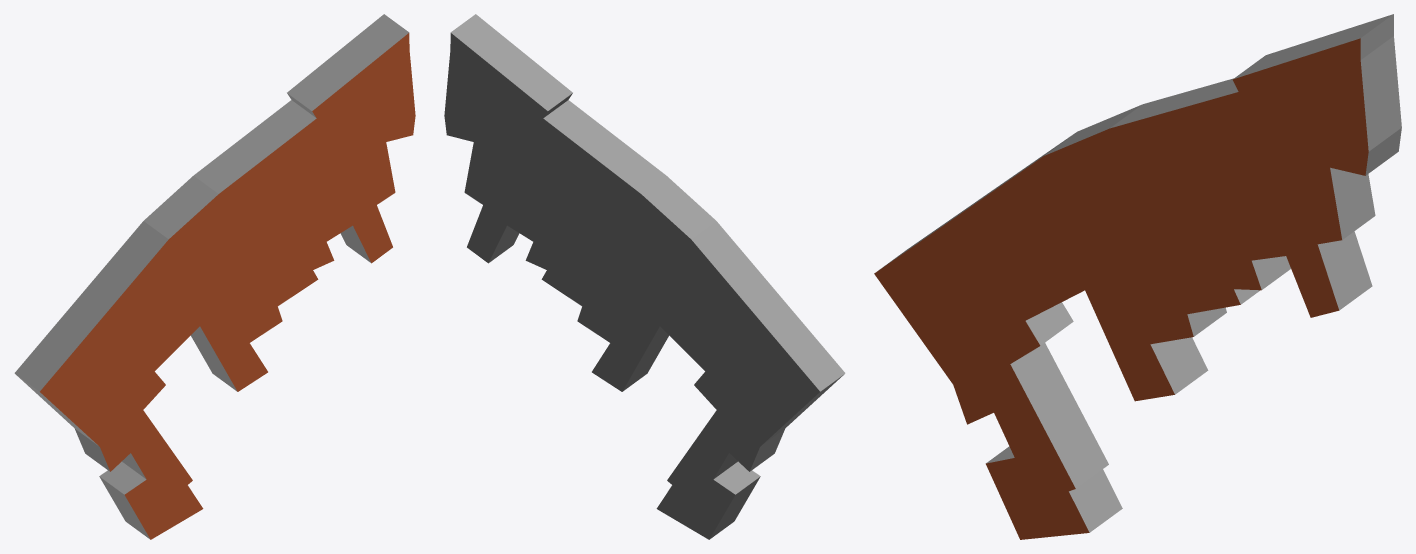
The model's file is construction_7070_assumed_A_Casa_h6m.obj.
3 renders of one model, left to right at view 1: azimuth 30°, elevation 25°; view 2: azimuth 150°, elevation 25°; view 3: azimuth 330°, elevation 25°, orthographic. The views are drawn at different scales.
Visible parts, largest first — view 1: construction_7070_assumed_A_Casa; view 2: construction_7070_assumed_A_Casa; view 3: construction_7070_assumed_A_Casa.
Boxes of the visible parts, x1,y1,x2,y2 form: construction_7070_assumed_A_Casa: (14,14,415,539); construction_7070_assumed_A_Casa: (444,14,845,539); construction_7070_assumed_A_Casa: (874,14,1401,539).
Size of the model in its own units: 51.49 by 58.16 by 6.
